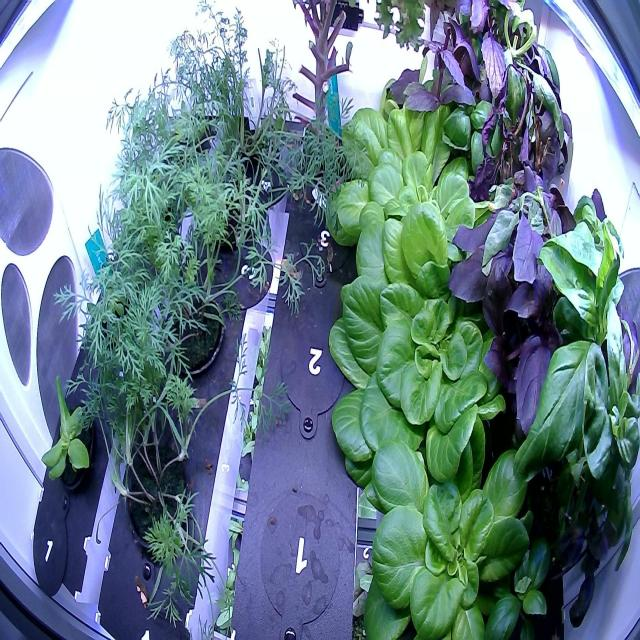Ready: (323, 260, 518, 506), (356, 410, 551, 640), (318, 147, 503, 301), (321, 67, 497, 214)
empty_pod: (251, 482, 348, 633), (269, 296, 358, 446), (293, 185, 360, 287)
young: (34, 357, 102, 496)
